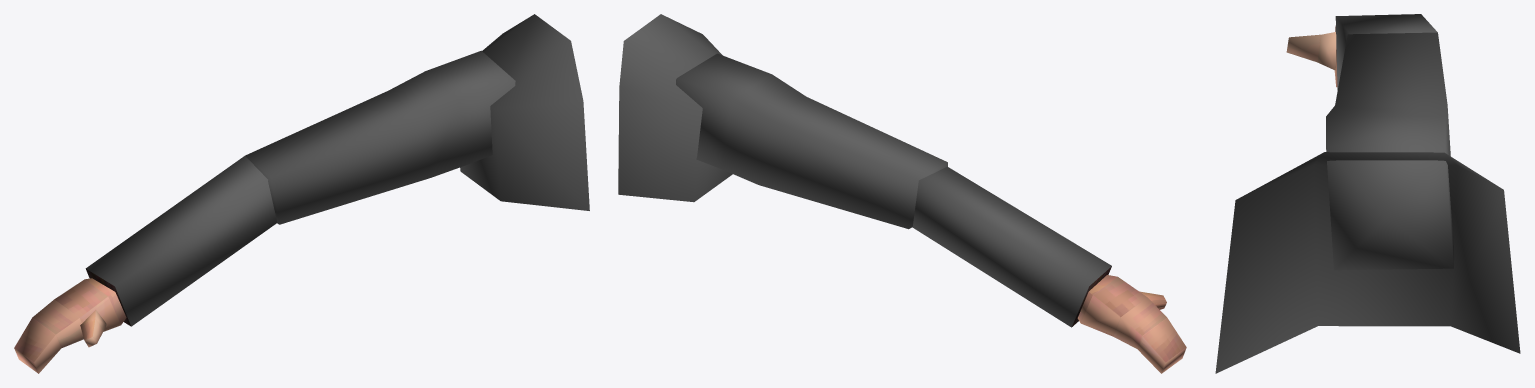
File: PlayerArm.fbx
3 renders of one model, left to right at view 1: azimuth 30°, elevation 25°; view 2: azimuth 150°, elevation 25°; view 3: azimuth 270°, elevation 25°, orthographic. The views are drawn at different scales.
Visible parts, largest first — view 1: Arm; view 2: Arm; view 3: Arm.
Boxes of the visible parts, left/top/right/bottom form: Arm: left=14, top=14, right=589, bottom=373; Arm: left=618, top=14, right=1186, bottom=373; Arm: left=1215, top=14, right=1520, bottom=373.
Size of the model in its own units: 78.24 by 29.65 by 23.8.
